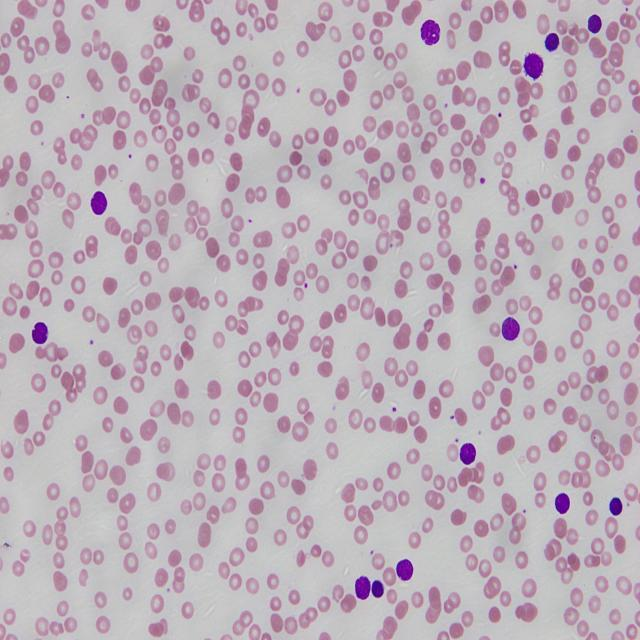cell: (501, 317, 520, 340), (396, 558, 414, 580), (91, 192, 108, 215), (355, 577, 371, 600), (31, 322, 48, 343), (460, 443, 476, 465), (555, 493, 570, 513), (545, 33, 559, 52), (588, 15, 602, 33), (609, 497, 622, 516), (371, 580, 384, 598)
